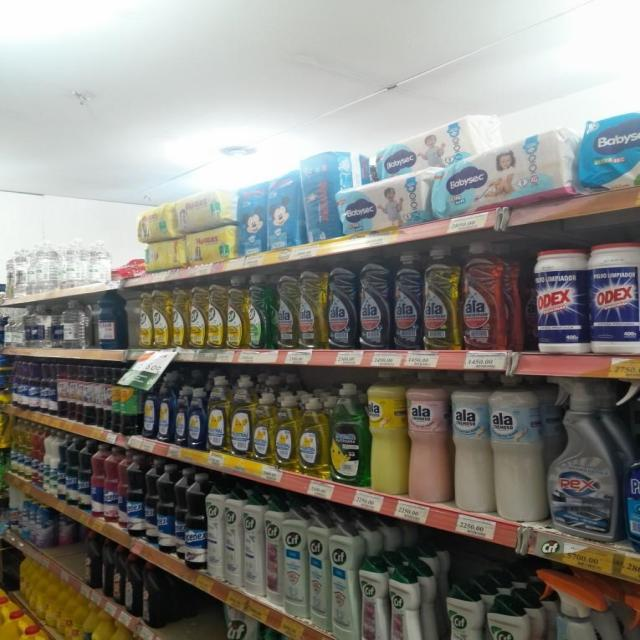ala_conc_amarillo: (424, 246, 459, 350), (299, 270, 326, 349), (275, 272, 298, 350)
ala_conc_azul: (392, 252, 422, 351), (359, 258, 391, 350), (327, 266, 357, 350)
ala_conc_rojo: (461, 242, 512, 352)
ala_crem_blanco: (492, 373, 545, 522), (451, 371, 491, 513)
ala_crem_rosado: (408, 370, 449, 504)
cif_conc_bot_amarilla: (227, 275, 247, 349), (207, 280, 226, 348), (189, 283, 206, 349), (153, 287, 170, 349), (172, 286, 188, 348)
cif_conc_botella_verde: (248, 274, 272, 350)
magistral_con_amarillo: (299, 396, 328, 476), (274, 394, 298, 471), (230, 382, 252, 459), (208, 379, 230, 453), (252, 391, 274, 464)
magistral_con_azul: (626, 437, 640, 555), (188, 386, 207, 450), (158, 383, 172, 443), (143, 381, 157, 439), (174, 385, 187, 447)
